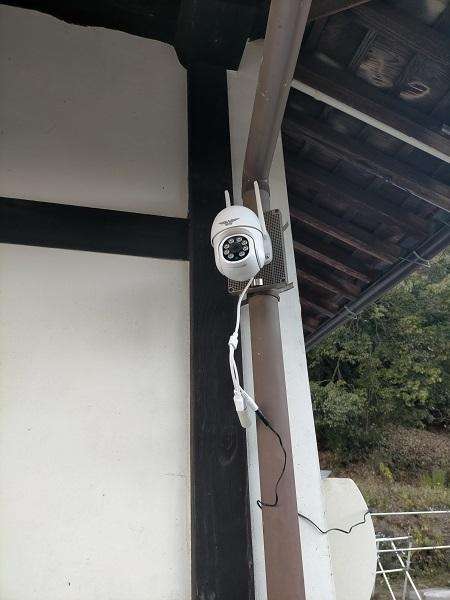maru: (203, 184, 273, 296)
